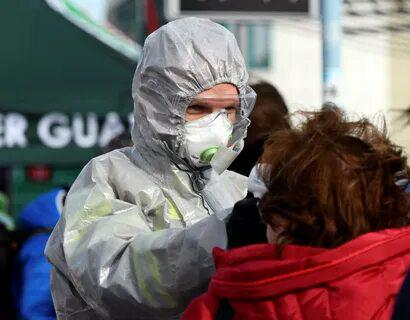mask: (177, 89, 237, 174)
